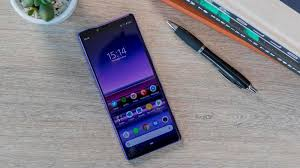sony: (75, 12, 184, 164)
